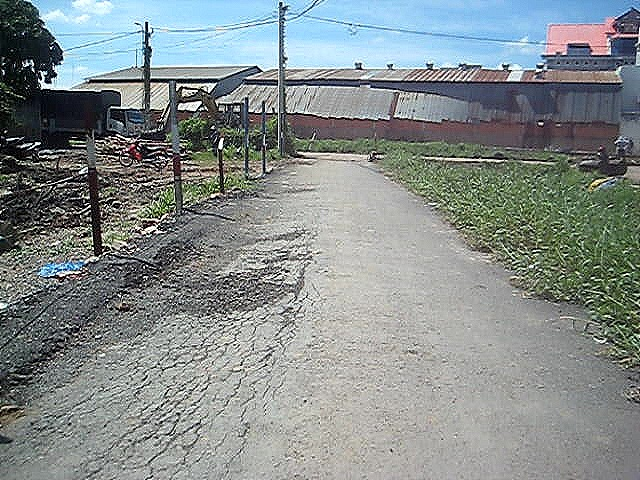hole: (18, 221, 301, 403)
